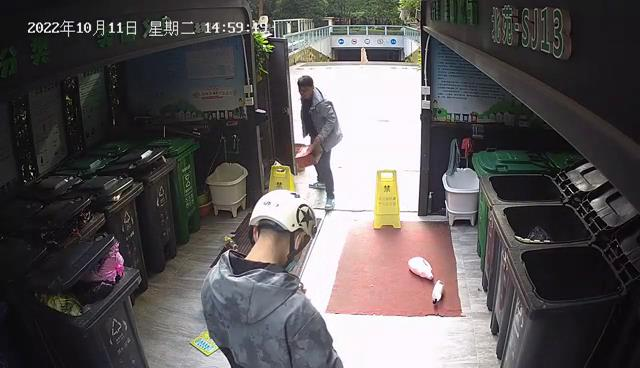person: (199, 188, 344, 368), (296, 74, 344, 211)
suliaozhipin: (406, 255, 435, 281), (430, 279, 444, 304)
zhizhipin: (188, 327, 219, 356), (293, 141, 323, 169)
